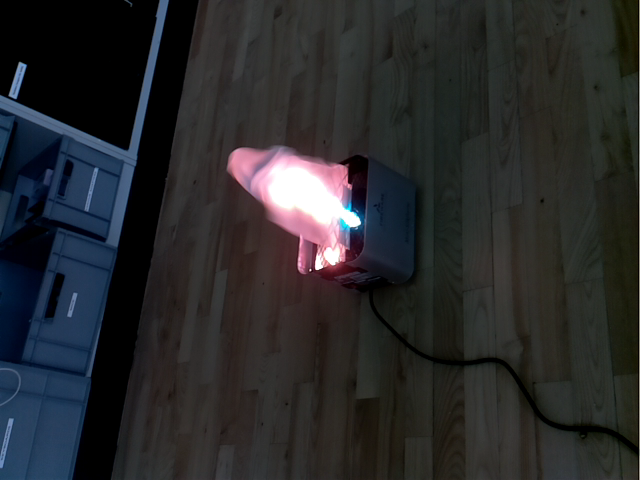fire: (225, 144, 351, 264)
